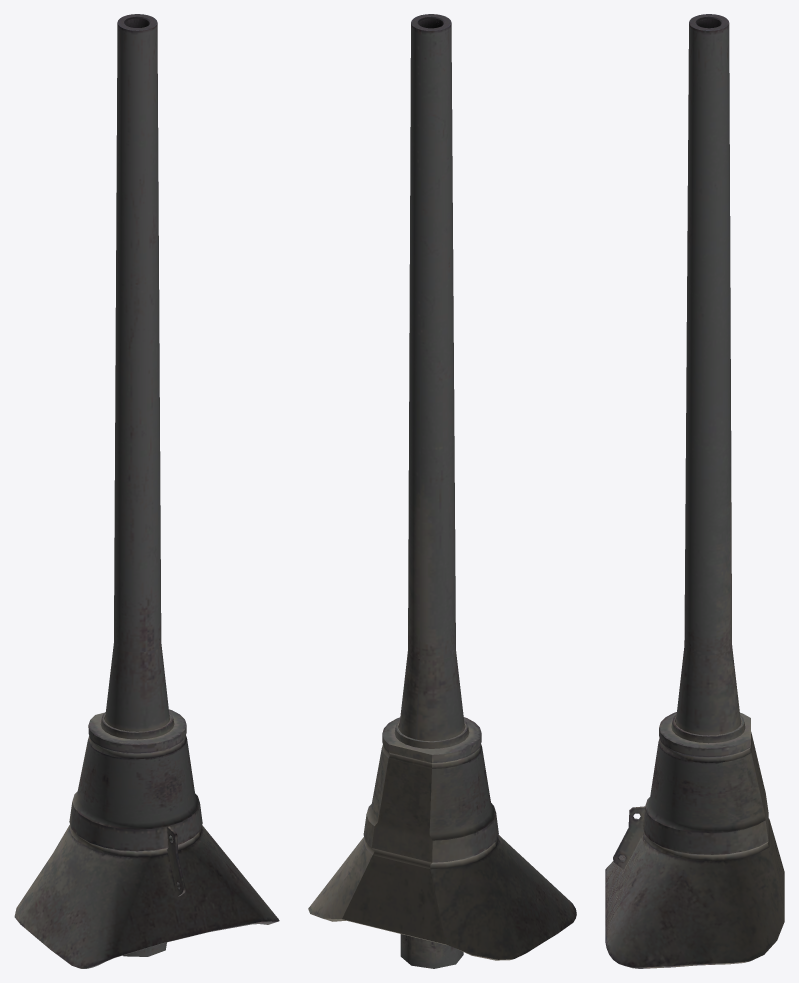
The model's file is Gun_01.glb.
The picture shows the model from 3 angles, left to right: view 1: azimuth 30°, elevation 25°; view 2: azimuth 150°, elevation 25°; view 3: azimuth 270°, elevation 25°; orthographic projection.
Parts seen in each view (by area): view 1: set_0_group_0; view 2: set_0_group_0; view 3: set_0_group_0.
Boxes of the visible parts, x1,y1,x2,y2 form: set_0_group_0: (14, 14, 279, 968); set_0_group_0: (308, 14, 576, 968); set_0_group_0: (605, 14, 784, 968).
Size of the model in its own units: 1.23 by 5.14 by 0.9005.
1 material, 1 textured.
